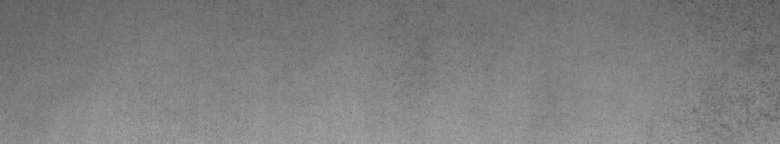ib: (688, 13, 776, 131)
